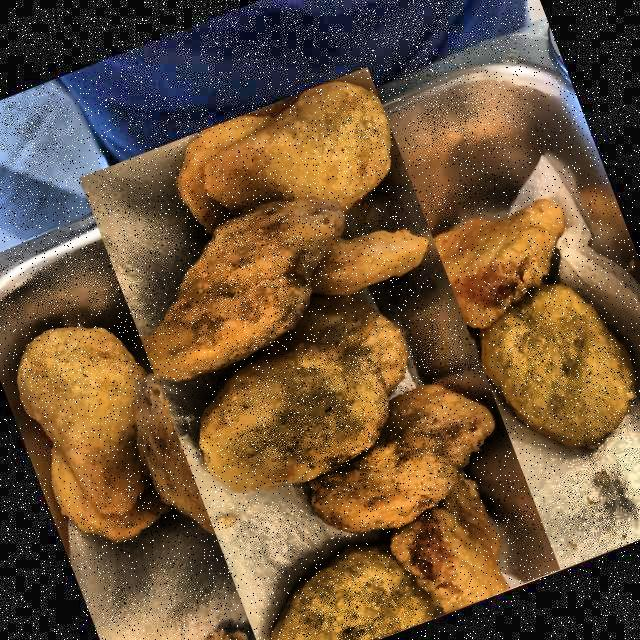Food: (40, 105, 612, 640)
